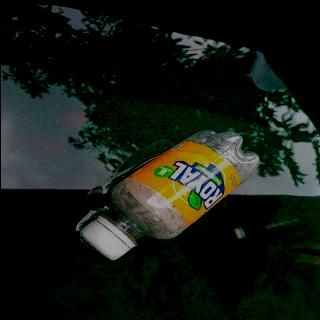bottle: (76, 129, 264, 262)
